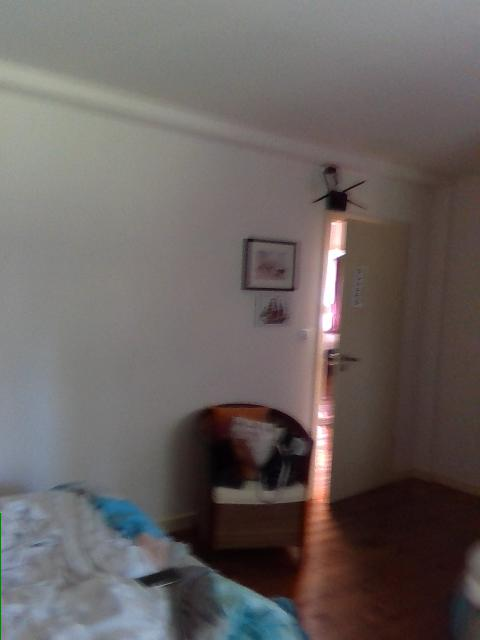semi_door: (306, 208, 411, 505)
